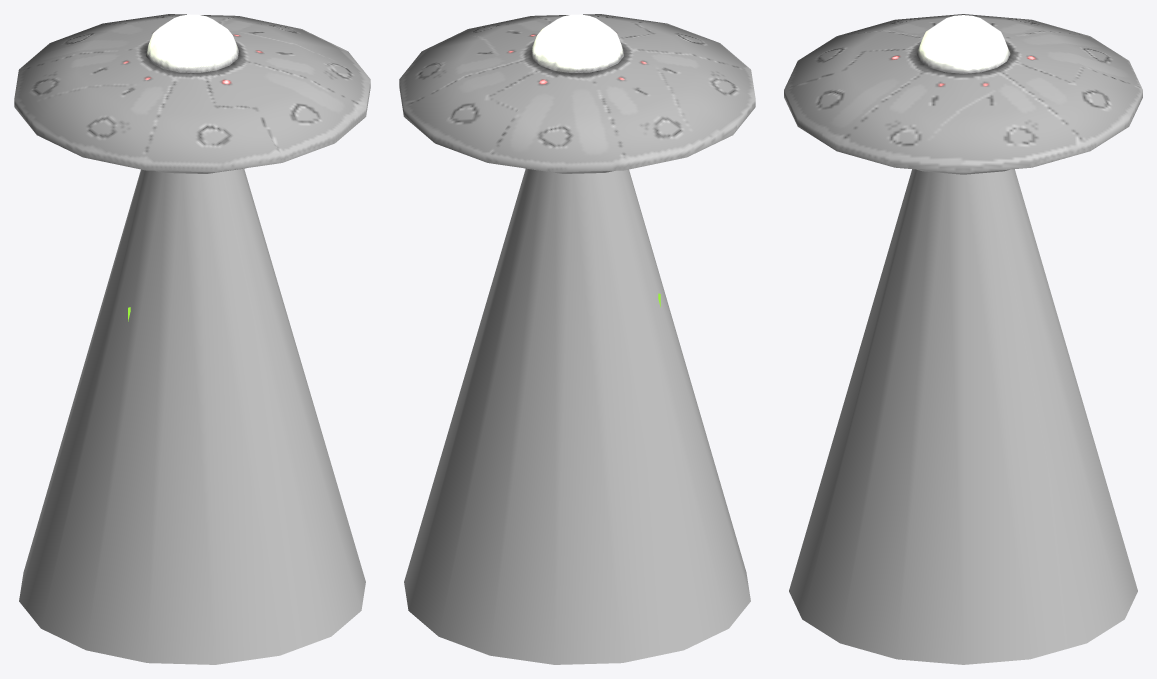
The model's file is LowPolyUfo.fbx.
The picture shows the model from 3 angles, left to right: view 1: azimuth 30°, elevation 25°; view 2: azimuth 150°, elevation 25°; view 3: azimuth 270°, elevation 25°; orthographic projection.
Parts seen in each view (by area): view 1: Beam, UFO; view 2: Beam, UFO; view 3: Beam, UFO.
Boxes of the visible parts, x1,y1,x2,y2 form: Beam: [19, 168, 365, 664]; UFO: [14, 14, 370, 173]; Beam: [404, 168, 750, 664]; UFO: [399, 14, 755, 173]; Beam: [789, 169, 1137, 664]; UFO: [784, 14, 1142, 174].
Bounding box in the file's own units: 200 × 355 × 200.
